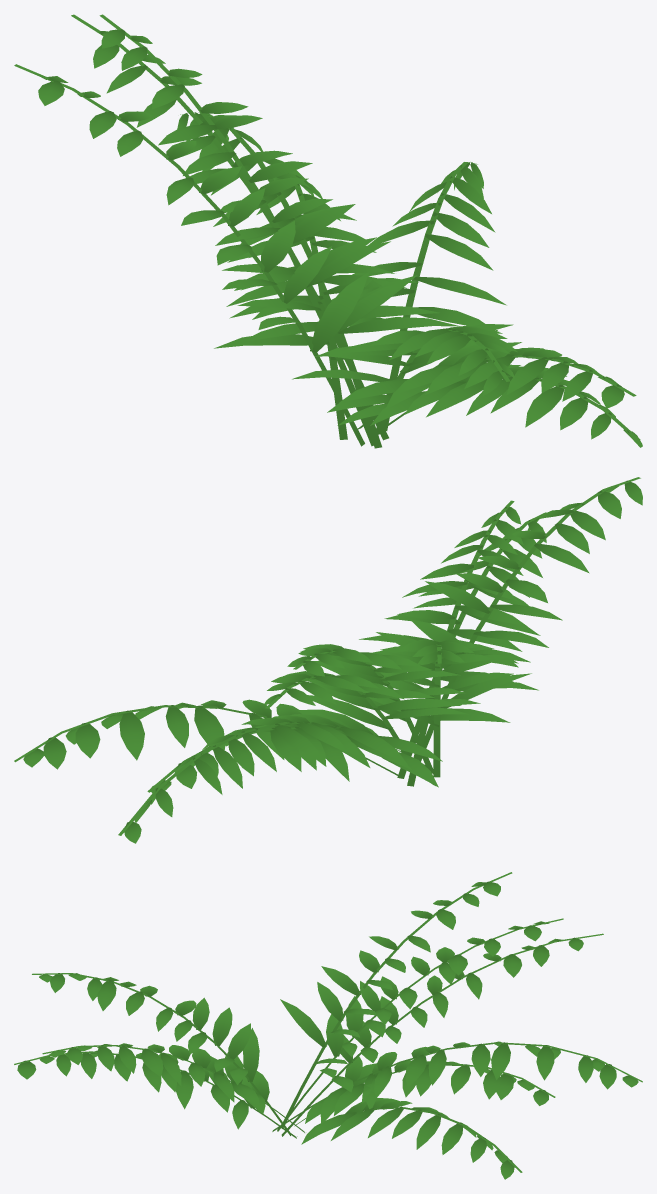
File: fern1_s31707.gltf
3 views of the same model, one above another, from view 1: azimuth 30°, elevation 25°; view 2: azimuth 150°, elevation 25°; view 3: azimuth 270°, elevation 25° (orthographic). The views are drawn at different scales.
Visible parts, largest first — view 1: fern1_s31707_leaf_LOD0, fern1_s31707_stalk_LOD0; view 2: fern1_s31707_leaf_LOD0, fern1_s31707_stalk_LOD0; view 3: fern1_s31707_leaf_LOD0, fern1_s31707_stalk_LOD0.
Part boxes in pixels (x1,y1,x2,y2): fern1_s31707_leaf_LOD0: [38, 29, 642, 447]; fern1_s31707_stalk_LOD0: [14, 14, 640, 448]; fern1_s31707_leaf_LOD0: [23, 480, 642, 843]; fern1_s31707_stalk_LOD0: [14, 477, 640, 835]; fern1_s31707_leaf_LOD0: [17, 881, 638, 1179]; fern1_s31707_stalk_LOD0: [14, 872, 642, 1172].
Size of what is drawn, in the model's own units: 0.9443 by 0.5661 by 1.63.
